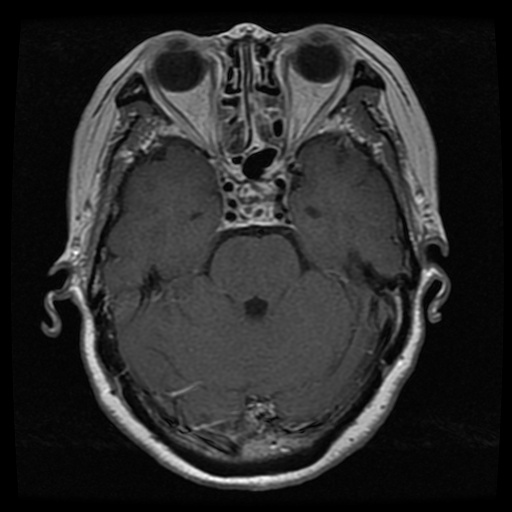pituitary: (237, 182, 277, 217)
